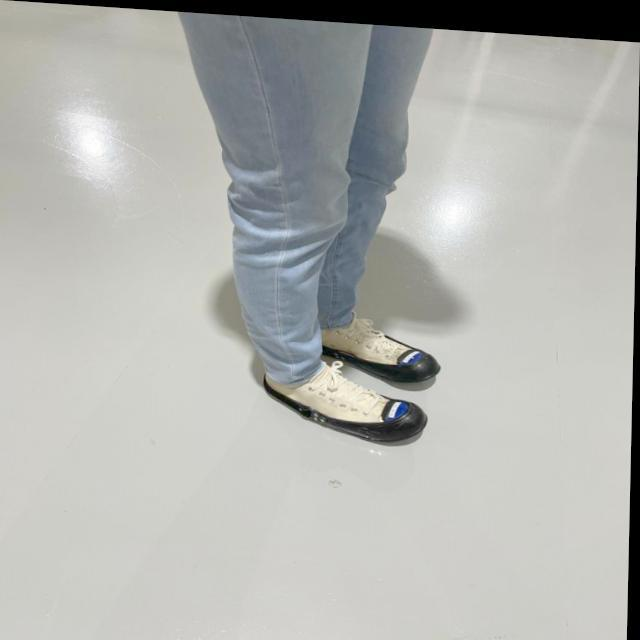shoes: (255, 352, 428, 466), (316, 313, 449, 385)
